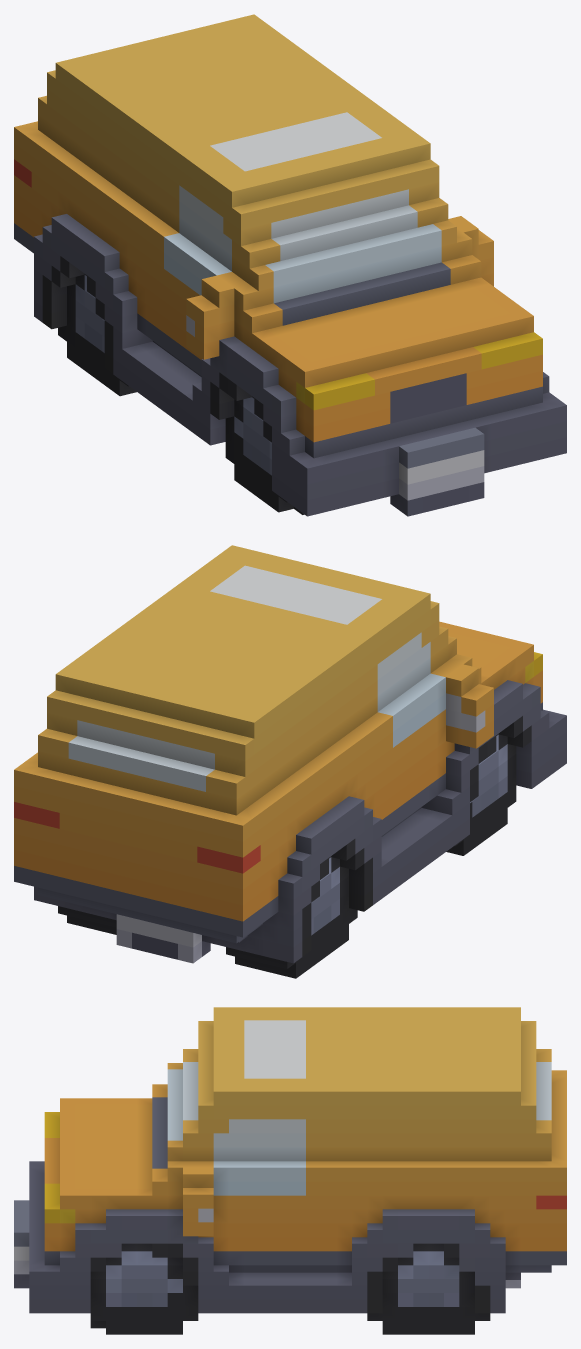
File: suv_luxury.glb
3 renders of one model, top to bottom at view 1: azimuth 30°, elevation 25°; view 2: azimuth 150°, elevation 25°; view 3: azimuth 270°, elevation 25°, orthographic. The views are drawn at different scales.
Parts seen in each view (by area): view 1: voxels; view 2: voxels; view 3: voxels.
Part boxes in pixels (box(x1,y1,x2,y2)): voxels: box(14, 14, 566, 516); voxels: box(14, 545, 566, 978); voxels: box(14, 1007, 566, 1334).
Bounding box in the file's own units: 1.54 × 1.38 × 2.92.
